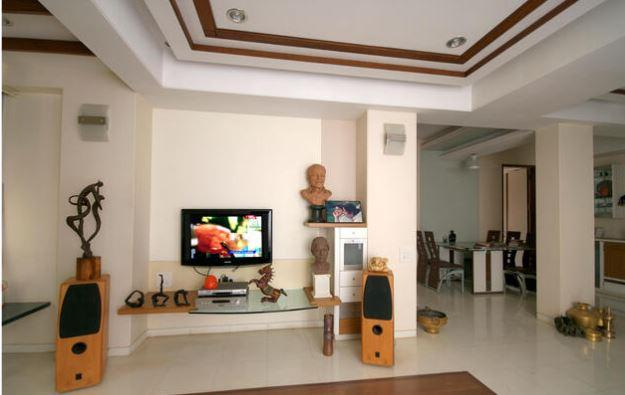TV: (169, 199, 289, 271)
chair: (497, 227, 533, 289), (427, 227, 462, 289), (414, 229, 430, 279), (485, 225, 506, 251)
console: (120, 294, 338, 310)
fan: (437, 150, 499, 178)
light: (225, 3, 253, 34), (440, 34, 468, 52)
table: (440, 234, 528, 296)
